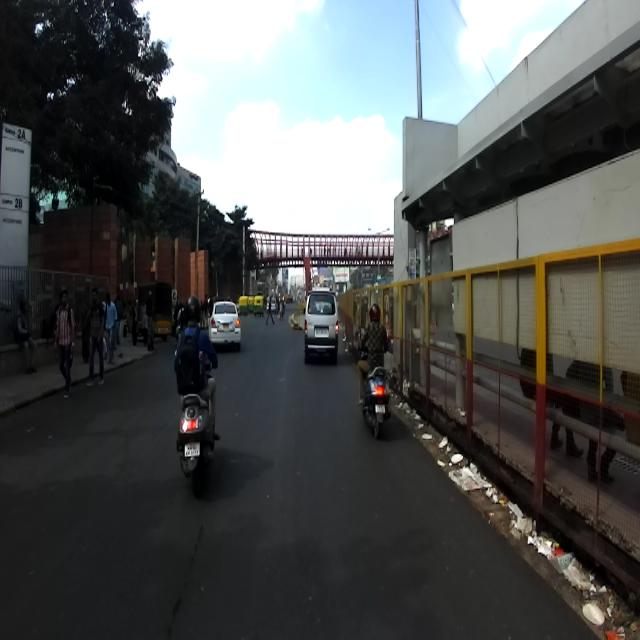car ahead at: (297, 285, 342, 370)
motorcycle ahead at: (170, 385, 222, 489), (360, 362, 395, 436)
